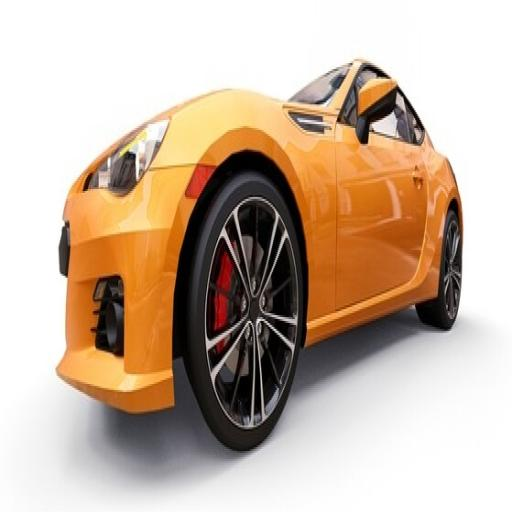coupe: (56, 66, 462, 457)
